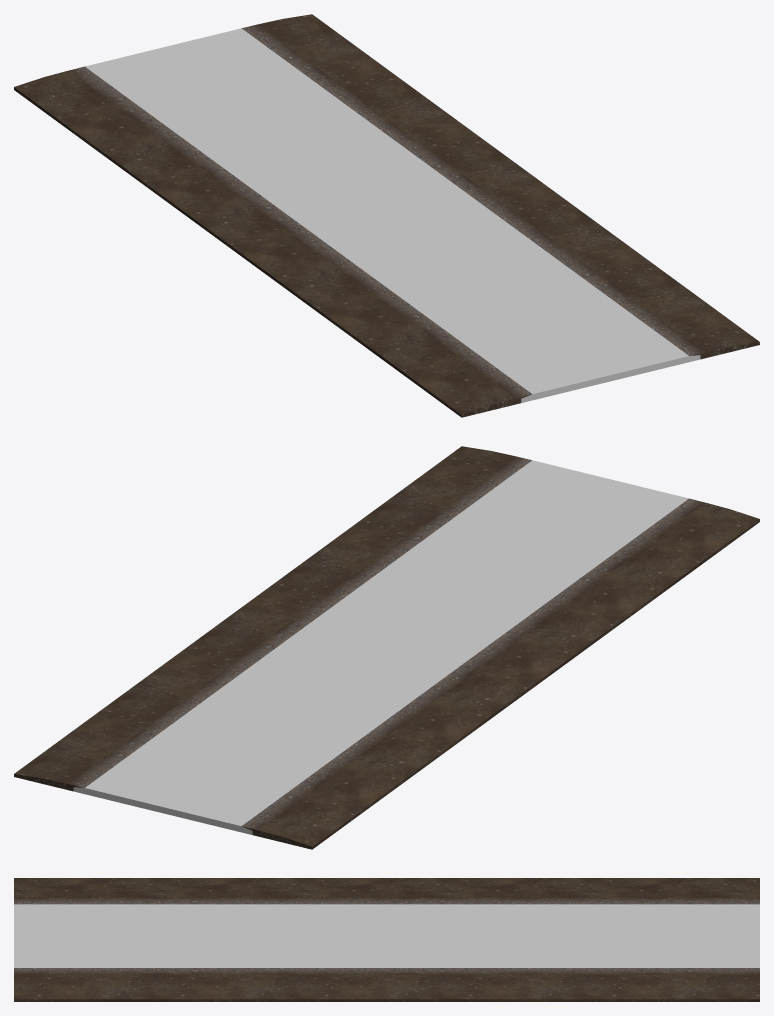
The model's file is Straight-Gravel.obj.
3 renders of one model, top to bottom at view 1: azimuth 30°, elevation 25°; view 2: azimuth 150°, elevation 25°; view 3: azimuth 270°, elevation 25°, orthographic. The views are drawn at different scales.
Parts seen in each view (by area): view 1: Straight-Gravel; view 2: Straight-Gravel; view 3: Straight-Gravel.
Boxes of the visible parts, x1,y1,x2,y2 form: Straight-Gravel: (14,14,759,417); Straight-Gravel: (14,446,759,849); Straight-Gravel: (14,878,759,1001).
Size of the model in its own units: 10 by 0.2 by 26.
